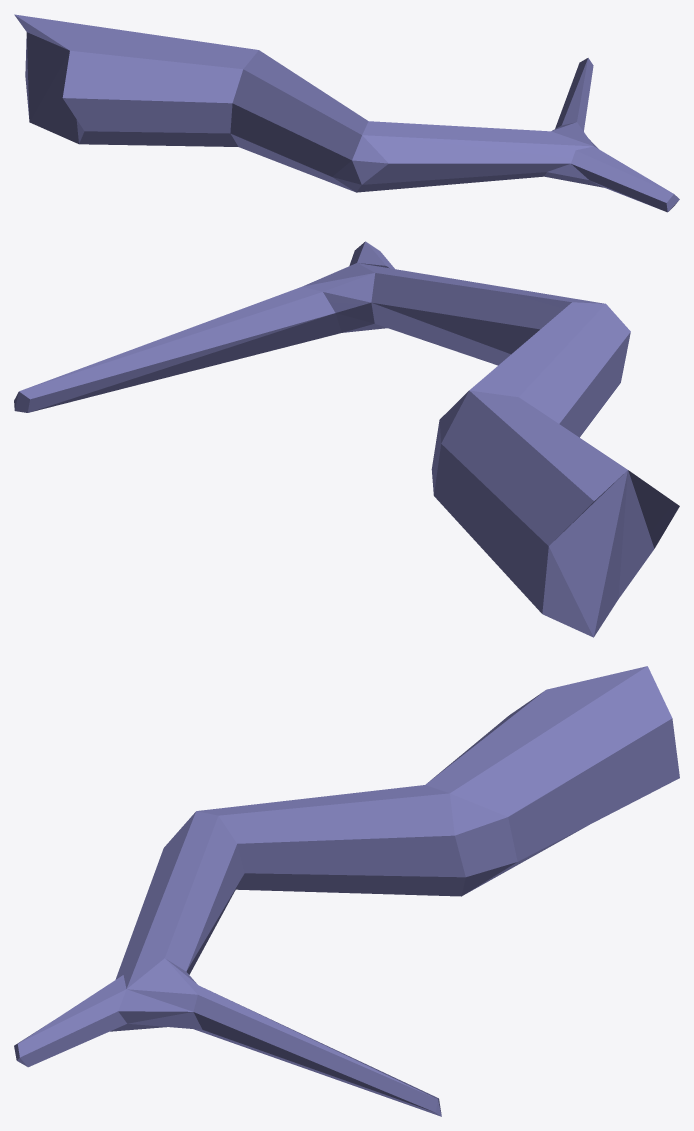
The model's file is SM_Tree_fallen_02.fbx.
The picture shows the model from 3 angles, top to bottom: view 1: azimuth 30°, elevation 25°; view 2: azimuth 150°, elevation 25°; view 3: azimuth 270°, elevation 25°; orthographic projection. The views are drawn at different scales.
Visible parts, largest first — view 1: EA_Rock3.001; view 2: EA_Rock3.001; view 3: EA_Rock3.001.
Boxes of the visible parts, <box> form: EA_Rock3.001: <box>14,14,679,212</box>; EA_Rock3.001: <box>14,241,679,637</box>; EA_Rock3.001: <box>14,666,679,1116</box>.
Bounding box in the file's own units: 255 × 56.18 × 232.
